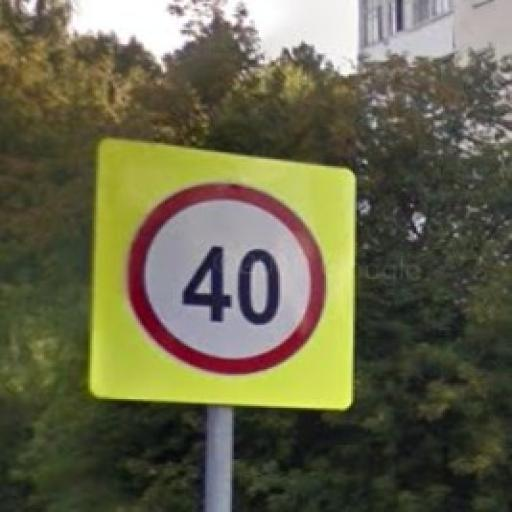traffic_sign: (124, 179, 331, 381)
